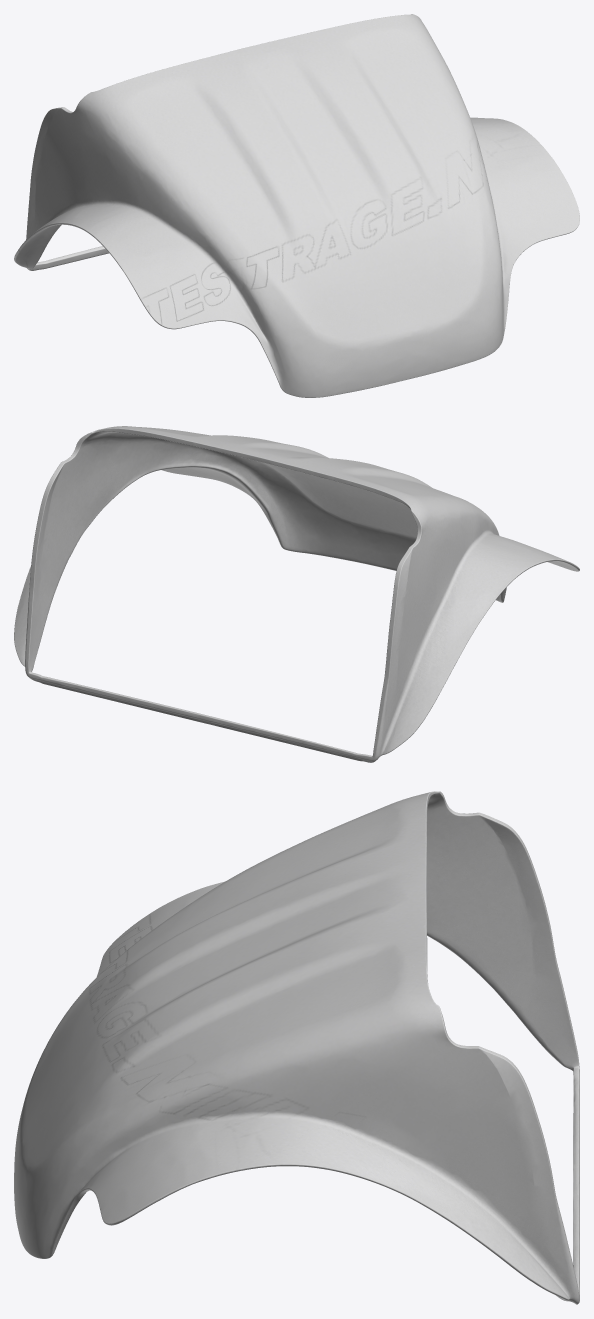
Rendered from Meshy_AI_White_Fiberglass_Hood_1107045219_texture.glb.
The picture shows the model from 3 angles, top to bottom: view 1: azimuth 30°, elevation 25°; view 2: azimuth 150°, elevation 25°; view 3: azimuth 270°, elevation 25°; orthographic projection. The views are drawn at different scales.
Size of the model in its own units: 1.9 by 0.9463 by 1.56.
Materials: 1 (1 with a texture image).
